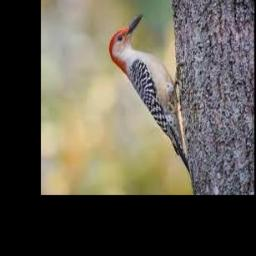Woodpecker: (108, 14, 191, 174)
